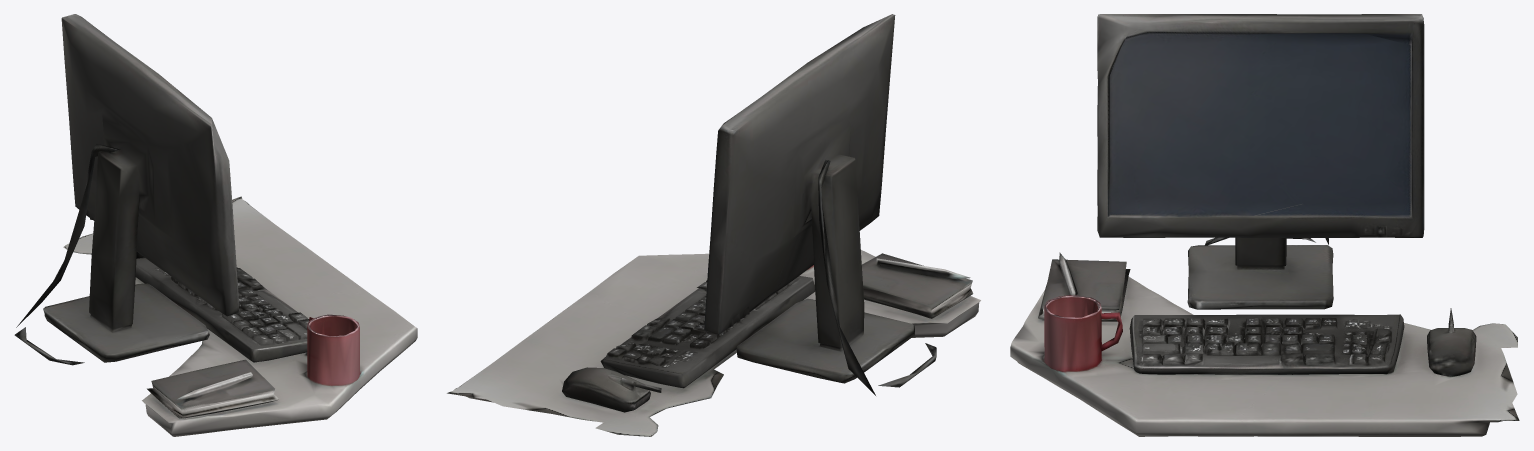
File: desktop-set.glb
The picture shows the model from 3 angles, left to right: view 1: azimuth 30°, elevation 25°; view 2: azimuth 150°, elevation 25°; view 3: azimuth 270°, elevation 25°; orthographic projection. The views are drawn at different scales.
Visible parts, largest first — view 1: tripo_node_62ae0f2e-22d3-44df-946f-21340dd3189a; view 2: tripo_node_62ae0f2e-22d3-44df-946f-21340dd3189a; view 3: tripo_node_62ae0f2e-22d3-44df-946f-21340dd3189a.
Part boxes in pixels (x1,y1,x2,y2): tripo_node_62ae0f2e-22d3-44df-946f-21340dd3189a: [14, 14, 417, 436]; tripo_node_62ae0f2e-22d3-44df-946f-21340dd3189a: [447, 14, 980, 436]; tripo_node_62ae0f2e-22d3-44df-946f-21340dd3189a: [1010, 14, 1519, 436].
Bounding box in the file's own units: 0.8064 × 0.671 × 1.
1 material, 1 textured.
